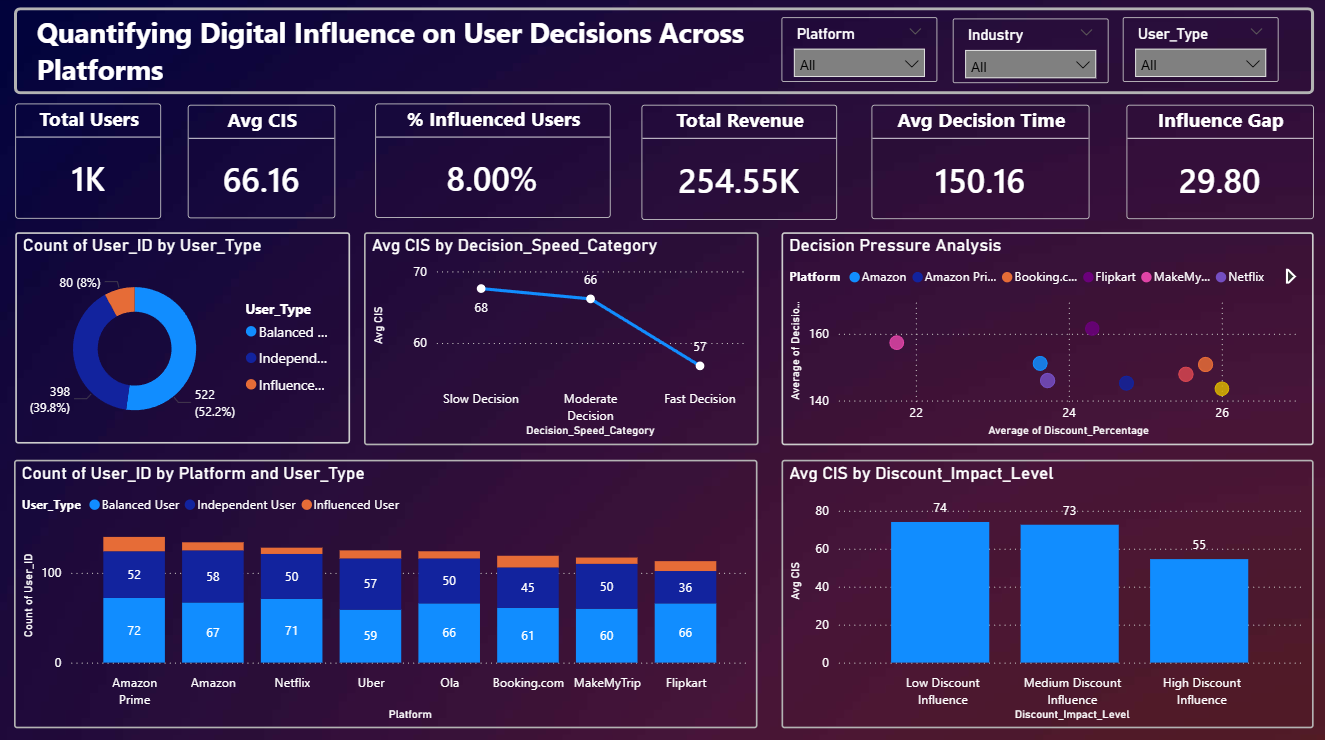

What the dashboard file says about the page in this screenshot:
{"tool":"powerbi","page":{"name":"User Decision Intelligence","canvas":[1280,720],"ordinal":0},"visuals":[{"type":"shape","box":[14.9,10.8,1254.9,84.1],"z":0},{"type":"cardVisual","title":"Total Users","fields":{"Data":["User_Decision_Influence.Total Users"]},"box":[15.7,103.8,141.2,111],"z":1000},{"type":"cardVisual","title":"Avg CIS","fields":{"Data":["User_Decision_Influence.Avg CIS"]},"box":[182.2,105,142.4,109.8],"z":2000},{"type":"cardVisual","title":"% Influenced Users","fields":{"Data":["User_Decision_Influence.% Influenced Users"]},"box":[362.9,103.3,227,110.1],"z":3000},{"type":"cardVisual","title":"Total Revenue","fields":{"Data":["User_Decision_Influence.Total Revenue"]},"box":[619.8,104.7,188.9,111.4],"z":4000},{"type":"cardVisual","title":"Avg Decision Time","fields":{"Data":["User_Decision_Influence.Avg Decision Time"]},"box":[842.6,104.7,210.7,110.1],"z":5000},{"type":"cardVisual","title":"Influence Gap","fields":{"Data":["User_Decision_Influence.Influence Gap"]},"box":[1088.6,104.7,180.8,110.1],"z":6000},{"type":"textbox","box":[30.8,12.1,748.4,93.4],"z":7000},{"type":"slicer","fields":{"Values":["User_Decision_Influence.Platform"]},"box":[755.1,21,150,62.1],"z":8000},{"type":"slicer","fields":{"Values":["User_Decision_Influence.Industry"]},"box":[920.1,21.5,150,62.1],"z":9000},{"type":"slicer","fields":{"Values":["User_Decision_Influence.User_Type"]},"box":[1084.6,21,150,62.1],"z":10000},{"type":"donutChart","fields":{"Category":["User_Decision_Influence.User_Type"],"Y":["CountNonNull(User_Decision_Influence.User_ID)"]},"box":[15.6,228.6,323.4,203.9],"z":11000},{"type":"columnChart","fields":{"Category":["User_Decision_Influence.Platform"],"Y":["CountNonNull(User_Decision_Influence.User_ID)"],"Series":["User_Decision_Influence.User_Type"]},"box":[15,447.1,717.6,259.6],"z":12000},{"type":"lineChart","fields":{"Y":["User_Decision_Influence.Avg CIS"],"Category":["User_Decision_Influence.Decision_Speed_Category"]},"box":[352,228.3,380.5,205.2],"z":13000},{"type":"clusteredColumnChart","fields":{"Category":["User_Decision_Influence.Discount_Impact_Level"],"Y":["User_Decision_Influence.Avg CIS"]},"box":[755.7,447.1,513.7,259.6],"z":14000},{"type":"scatterChart","title":"Decision Pressure Analysis","fields":{"X":["Avg(User_Decision_Influence.Discount_Percentage)"],"Y":["Avg(User_Decision_Influence.Decision_Time)"],"Size":["Avg(User_Decision_Influence.Final_Price)"],"Series":["User_Decision_Influence.Platform"]},"box":[755.7,228.3,513.7,205.2],"z":15000}]}

Visuals, with their boxes in screenshot pixels (x1, y1, x2, y2), scaled from the page's 1280x720 canvas onto the 1325x740 screenshot:
shape: x1=15 y1=11 x2=1314 y2=98
"Total Users" cardVisual: x1=16 y1=107 x2=162 y2=221
"Avg CIS" cardVisual: x1=189 y1=108 x2=336 y2=221
"% Influenced Users" cardVisual: x1=376 y1=106 x2=611 y2=219
"Total Revenue" cardVisual: x1=642 y1=108 x2=837 y2=222
"Avg Decision Time" cardVisual: x1=872 y1=108 x2=1090 y2=221
"Influence Gap" cardVisual: x1=1127 y1=108 x2=1314 y2=221
textbox: x1=32 y1=12 x2=807 y2=108
slicer - User_Decision_Influence.Platform: x1=782 y1=22 x2=937 y2=85
slicer - User_Decision_Influence.Industry: x1=952 y1=22 x2=1108 y2=86
slicer - User_Decision_Influence.User_Type: x1=1123 y1=22 x2=1278 y2=85
donutChart - User_Decision_Influence.User_Type x CountNonNull(User_Decision_Influence.User_ID): x1=16 y1=235 x2=351 y2=445
columnChart - User_Decision_Influence.Platform x CountNonNull(User_Decision_Influence.User_ID): x1=16 y1=460 x2=758 y2=726
lineChart - User_Decision_Influence.Avg CIS x User_Decision_Influence.Decision_Speed_Category: x1=364 y1=235 x2=758 y2=446
clusteredColumnChart - User_Decision_Influence.Discount_Impact_Level x User_Decision_Influence.Avg CIS: x1=782 y1=460 x2=1314 y2=726
"Decision Pressure Analysis" scatterChart: x1=782 y1=235 x2=1314 y2=446
